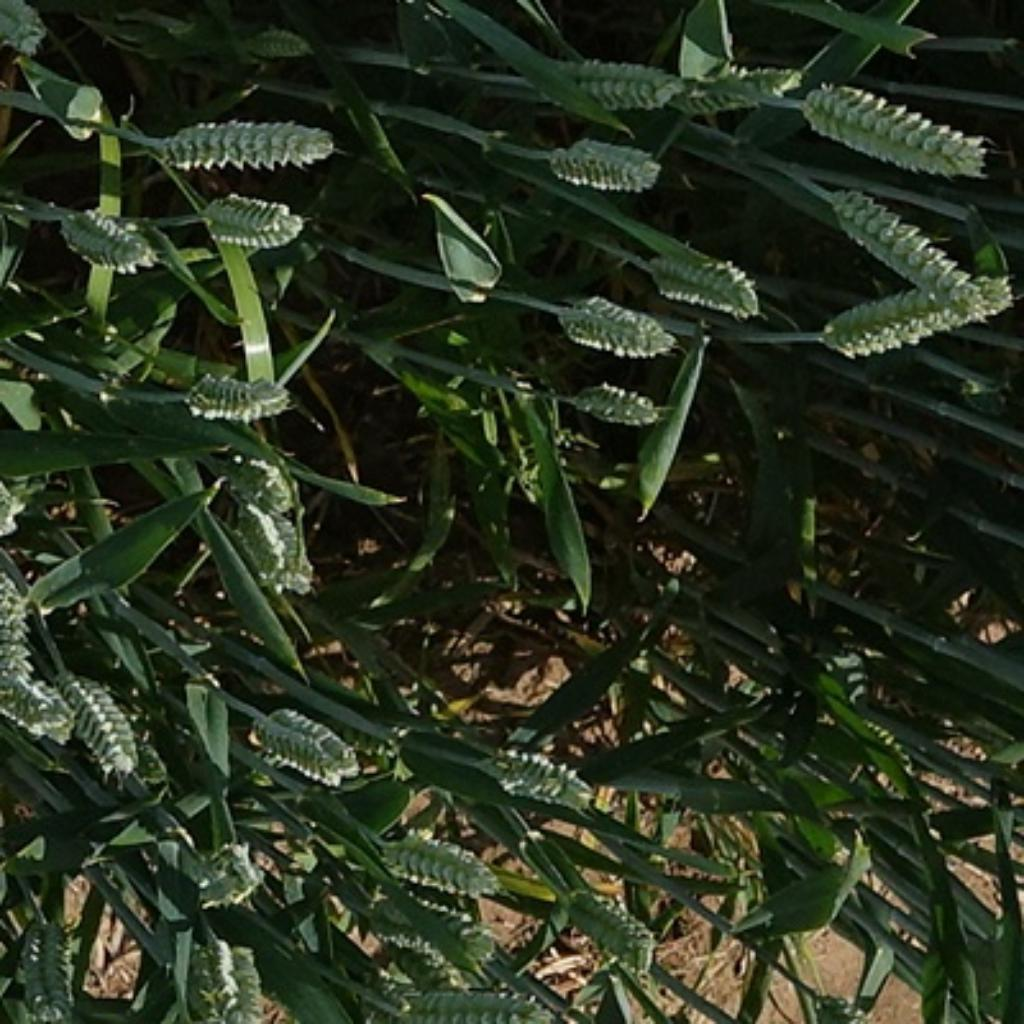0-0: (816, 176, 998, 325), (780, 64, 995, 179), (803, 258, 1021, 363), (151, 104, 353, 174), (56, 652, 163, 780), (371, 819, 504, 898), (151, 821, 266, 911), (0, 906, 87, 1024), (213, 508, 328, 597), (174, 924, 276, 1024), (245, 693, 358, 783), (642, 248, 764, 325), (547, 48, 696, 110), (565, 881, 664, 973), (550, 286, 673, 358), (186, 186, 317, 253), (537, 130, 673, 194), (53, 202, 166, 279), (168, 355, 294, 424), (360, 908, 494, 972), (483, 734, 591, 811), (211, 452, 321, 521), (392, 979, 559, 1024), (675, 53, 811, 107), (843, 704, 922, 784), (0, 558, 43, 701), (558, 376, 670, 430), (0, 678, 79, 750), (232, 19, 322, 68), (1, 1, 57, 63)
